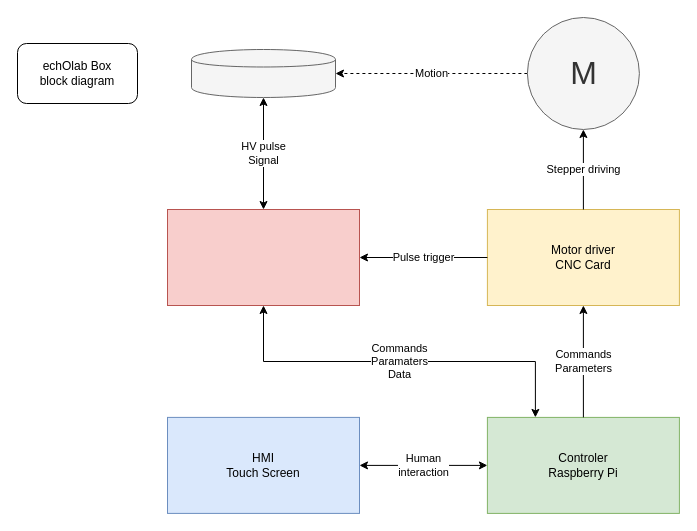
The diagram is 697 pixels wide and 531 high, and some of its shapes have lost their labels. Here are the shapes that lost their labels. From the top down, the centre of each, then its label:
At [263,73]: "Transducers".
At [263,257]: "Ultrasound card".
